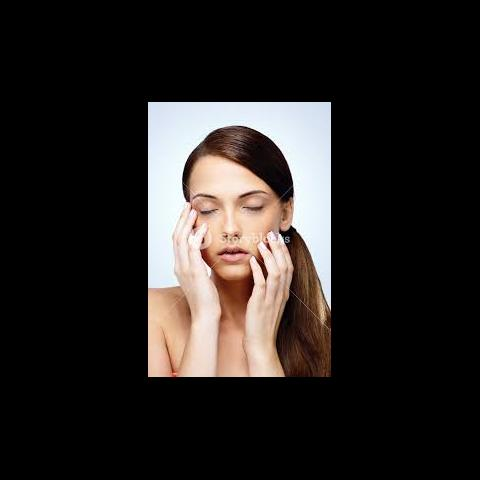closed: (188, 185, 274, 222)
